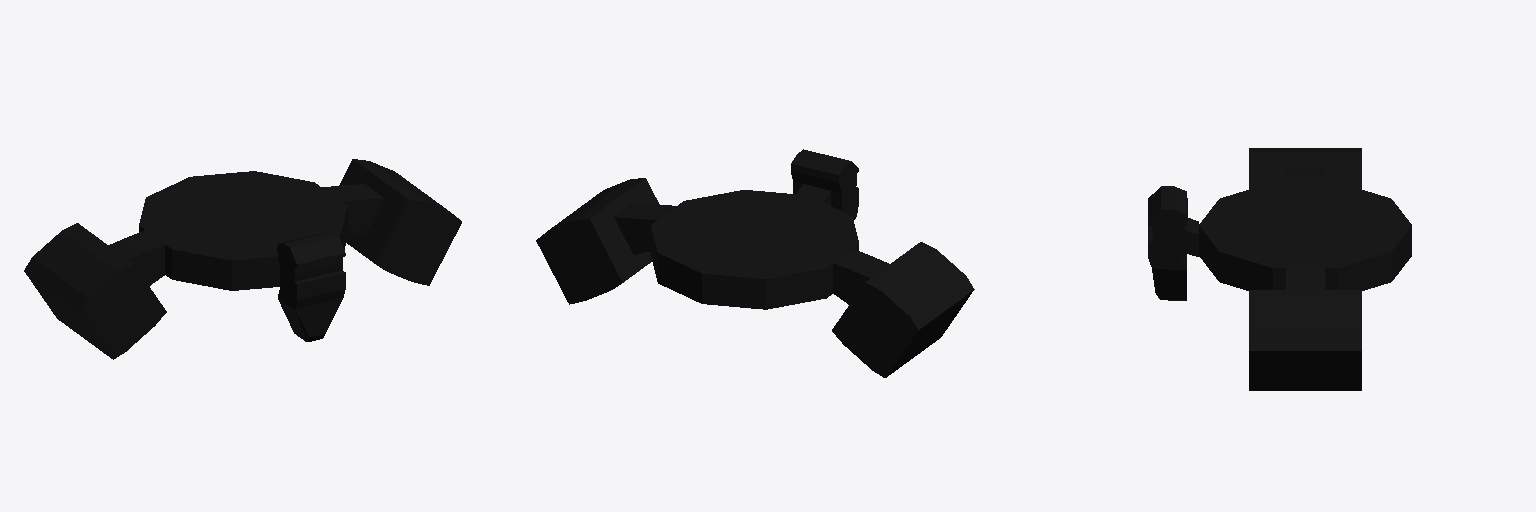
The model's file is Drone.Wheel.Track.obj.
The picture shows the model from 3 angles: view 1: azimuth 30°, elevation 25°; view 2: azimuth 150°, elevation 25°; view 3: azimuth 270°, elevation 25°; orthographic projection.
Parts seen in each view (by area): view 1: Figure_1; view 2: Figure_1; view 3: Figure_1.
Part boxes in pixels (bbox=[...]): Figure_1: bbox=[24, 159, 461, 359]; Figure_1: bbox=[536, 149, 974, 377]; Figure_1: bbox=[1148, 148, 1411, 390].
Bounding box in the file's own units: 1.21 × 0.3476 × 0.7248.